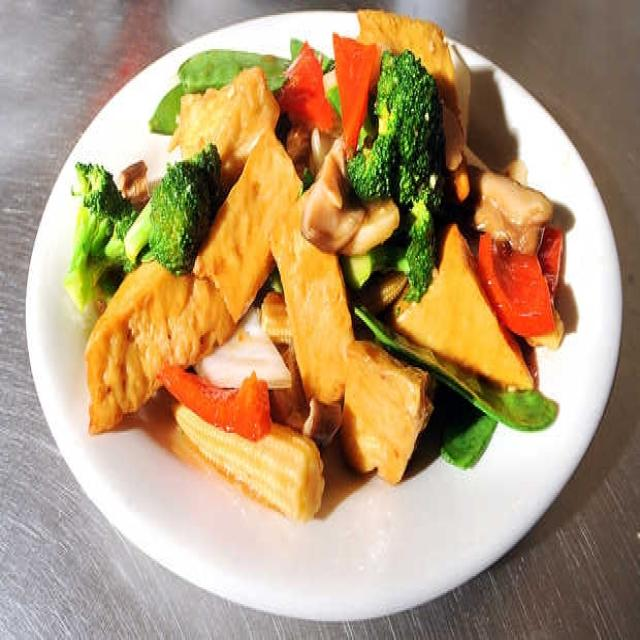豆腐料理: (39, 23, 598, 593)
